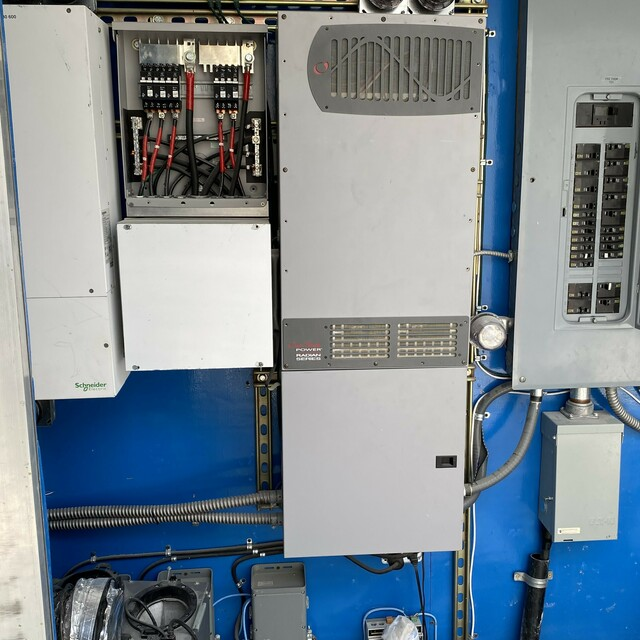inverter: (271, 6, 476, 558)
